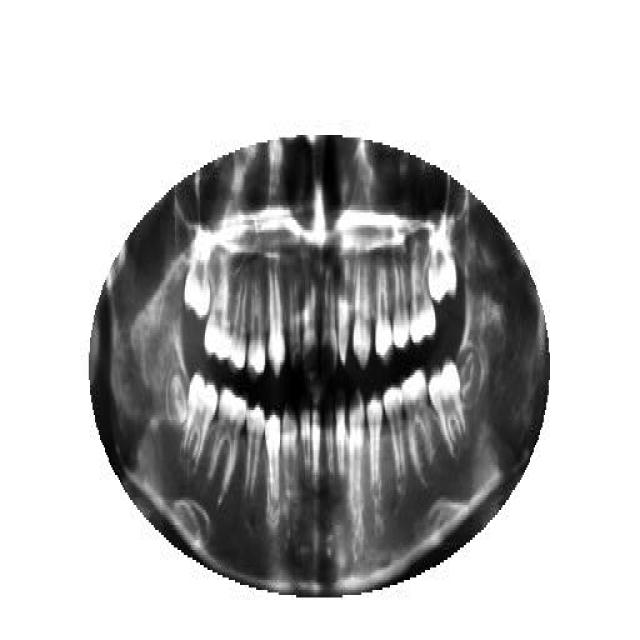Impacted Tooth: (428, 223, 457, 305), (184, 242, 211, 318), (164, 362, 188, 432)
